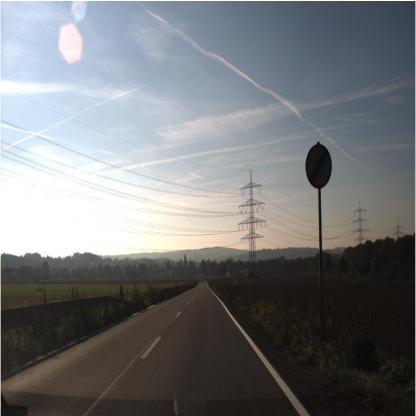other: (300, 142, 334, 189)
